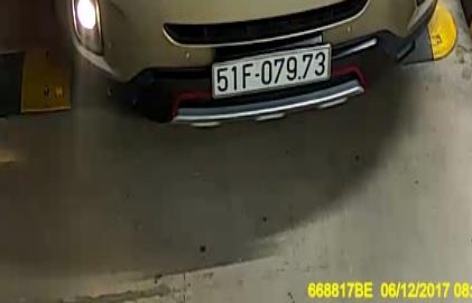plate: (204, 45, 335, 100)
